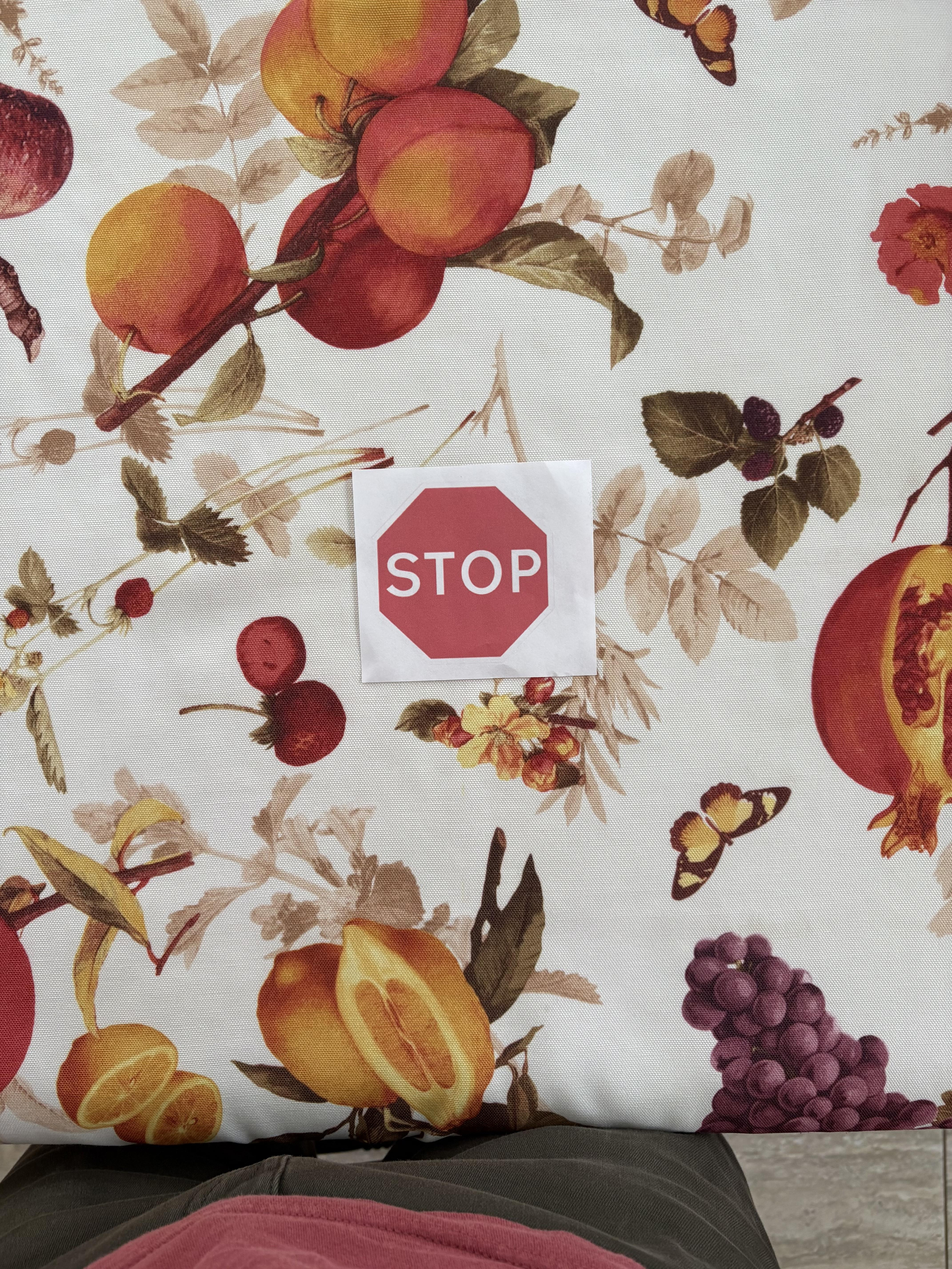Stop: (351, 473, 591, 677)
